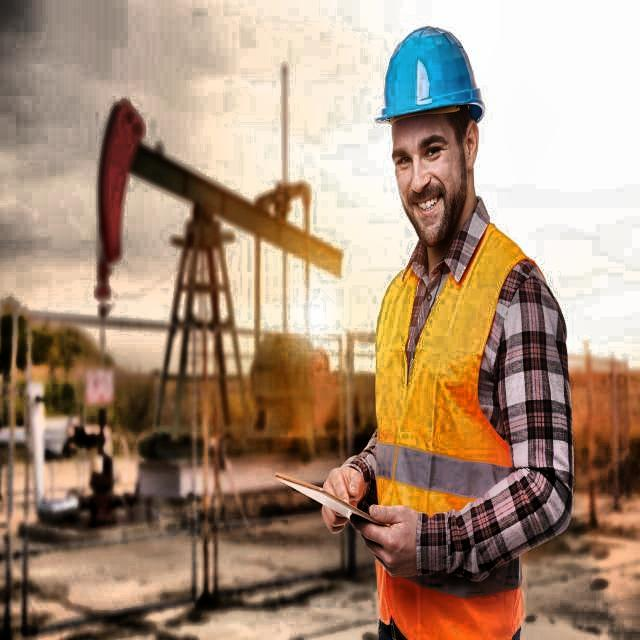person: (314, 20, 580, 640)
